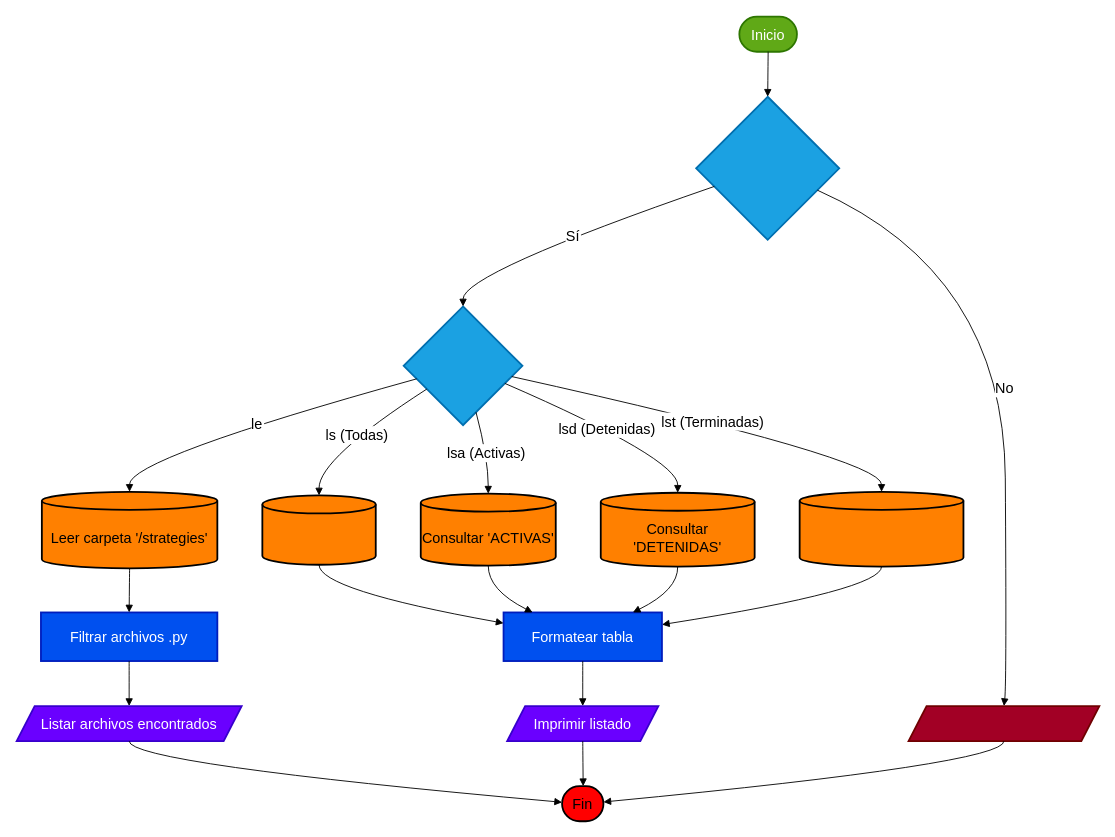
The diagram is 1115 pixels wide and 837 high, and some of its shapes have lost their labels. The shapes that lost their labels are listed below. From the top down, each one's centre as x and y in pixels, then its label:
At (x=767, y=167): "¿Sesión activa?".
At (x=462, y=365): "¿Comando?".
At (x=318, y=529): "Consultar todas".
At (x=881, y=528): "Consultar 'TERMINADAS'".
At (x=1003, y=723): "Error: 'Requiere Login'".
